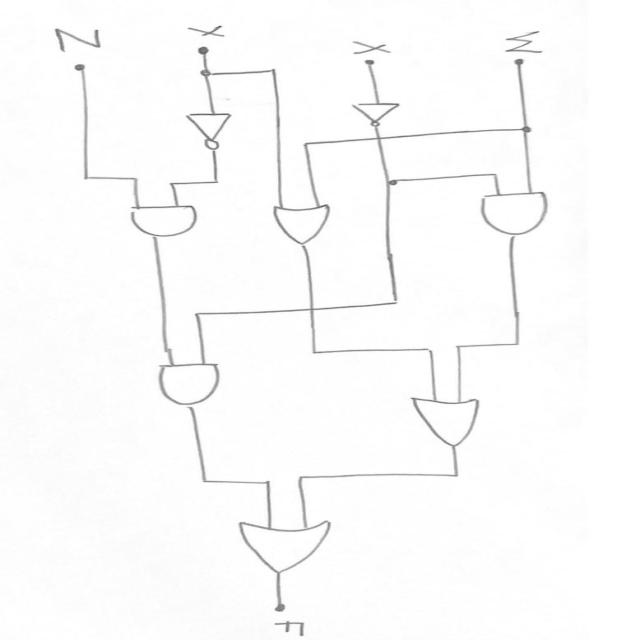AND: (124, 346, 258, 414), (456, 188, 590, 252), (107, 201, 222, 252)
NOT: (158, 105, 256, 154), (329, 96, 416, 136)
OR: (222, 514, 351, 579), (386, 392, 508, 451), (259, 198, 358, 255)
